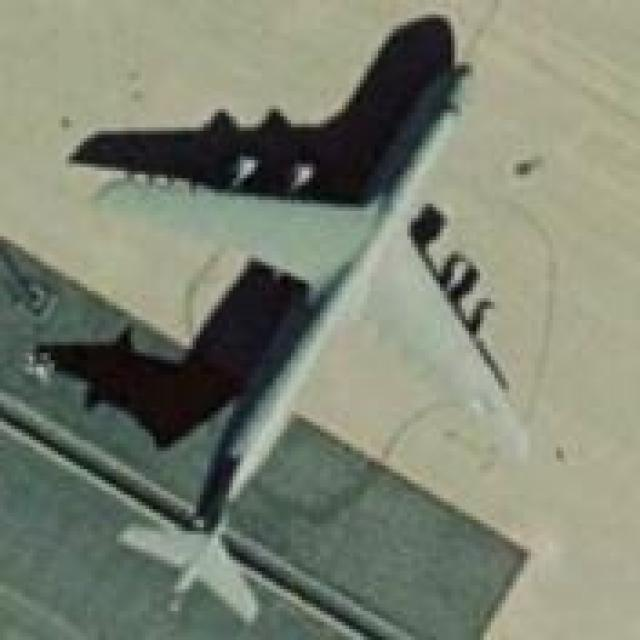C-5_TopDown: (35, 10, 540, 624)
